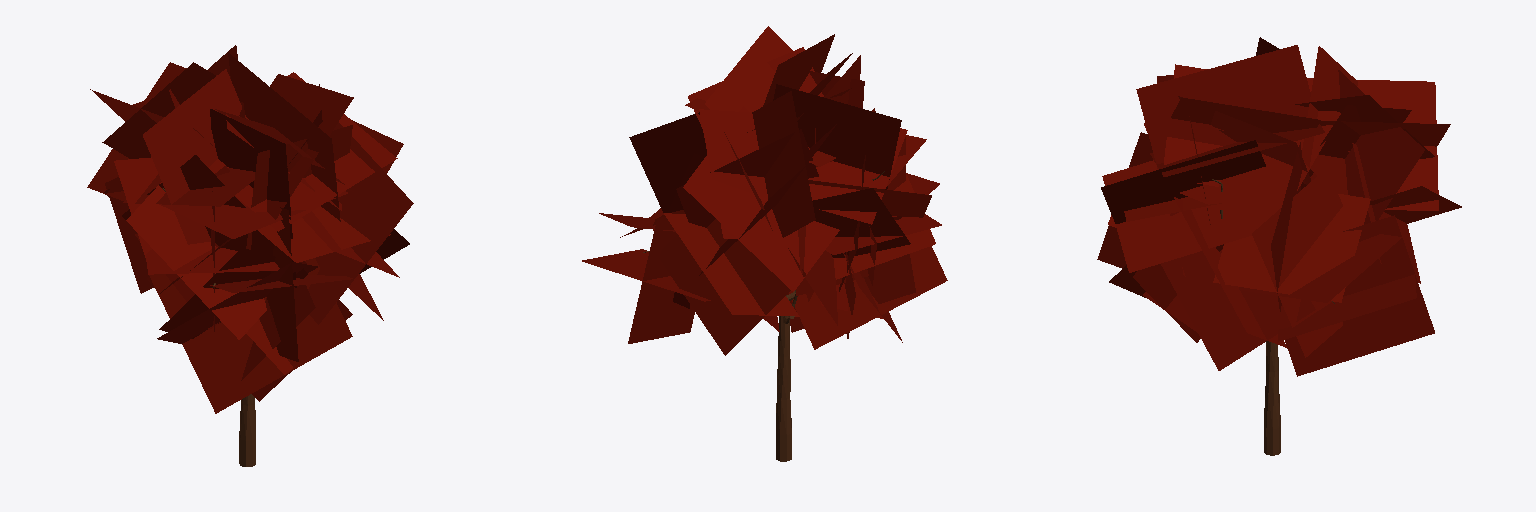
File: tree.obj
The picture shows the model from 3 angles: view 1: azimuth 30°, elevation 25°; view 2: azimuth 150°, elevation 25°; view 3: azimuth 270°, elevation 25°; orthographic projection.
Parts seen in each view (by area): view 1: tree_leaves_0, tree_stamme_0; view 2: tree_leaves_0, tree_stamme_0; view 3: tree_leaves_0, tree_stamme_0.
Boxes of the visible parts, <box> form: tree_leaves_0: <box>87,45,413,413</box>; tree_stamme_0: <box>162,188,255,466</box>; tree_leaves_0: <box>582,26,947,355</box>; tree_stamme_0: <box>643,171,884,461</box>; tree_leaves_0: <box>1097,37,1461,376</box>; tree_stamme_0: <box>1212,179,1334,455</box>.
Bounding box in the file's own units: 3.55 × 4.66 × 3.82.